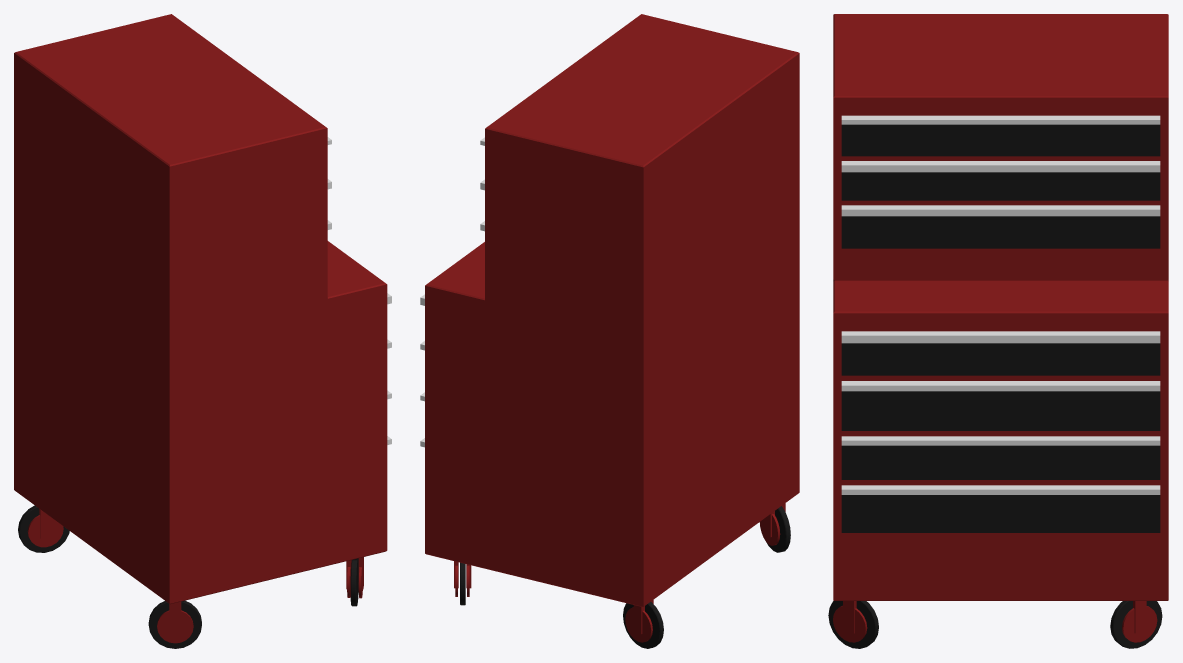
File: Proto_ToolChest_01.fbx
3 renders of one model, left to right at view 1: azimuth 30°, elevation 25°; view 2: azimuth 150°, elevation 25°; view 3: azimuth 270°, elevation 25°, orthographic. The views are drawn at different scales.
Parts seen in each view (by area): view 1: ToolChest; view 2: ToolChest; view 3: ToolChest.
Part boxes in pixels (x1,y1,x2,y2): ToolChest: (14, 14, 391, 648); ToolChest: (420, 14, 799, 648); ToolChest: (828, 14, 1168, 648).
Bounding box in the file's own units: 1.48 × 2.98 × 1.73.
